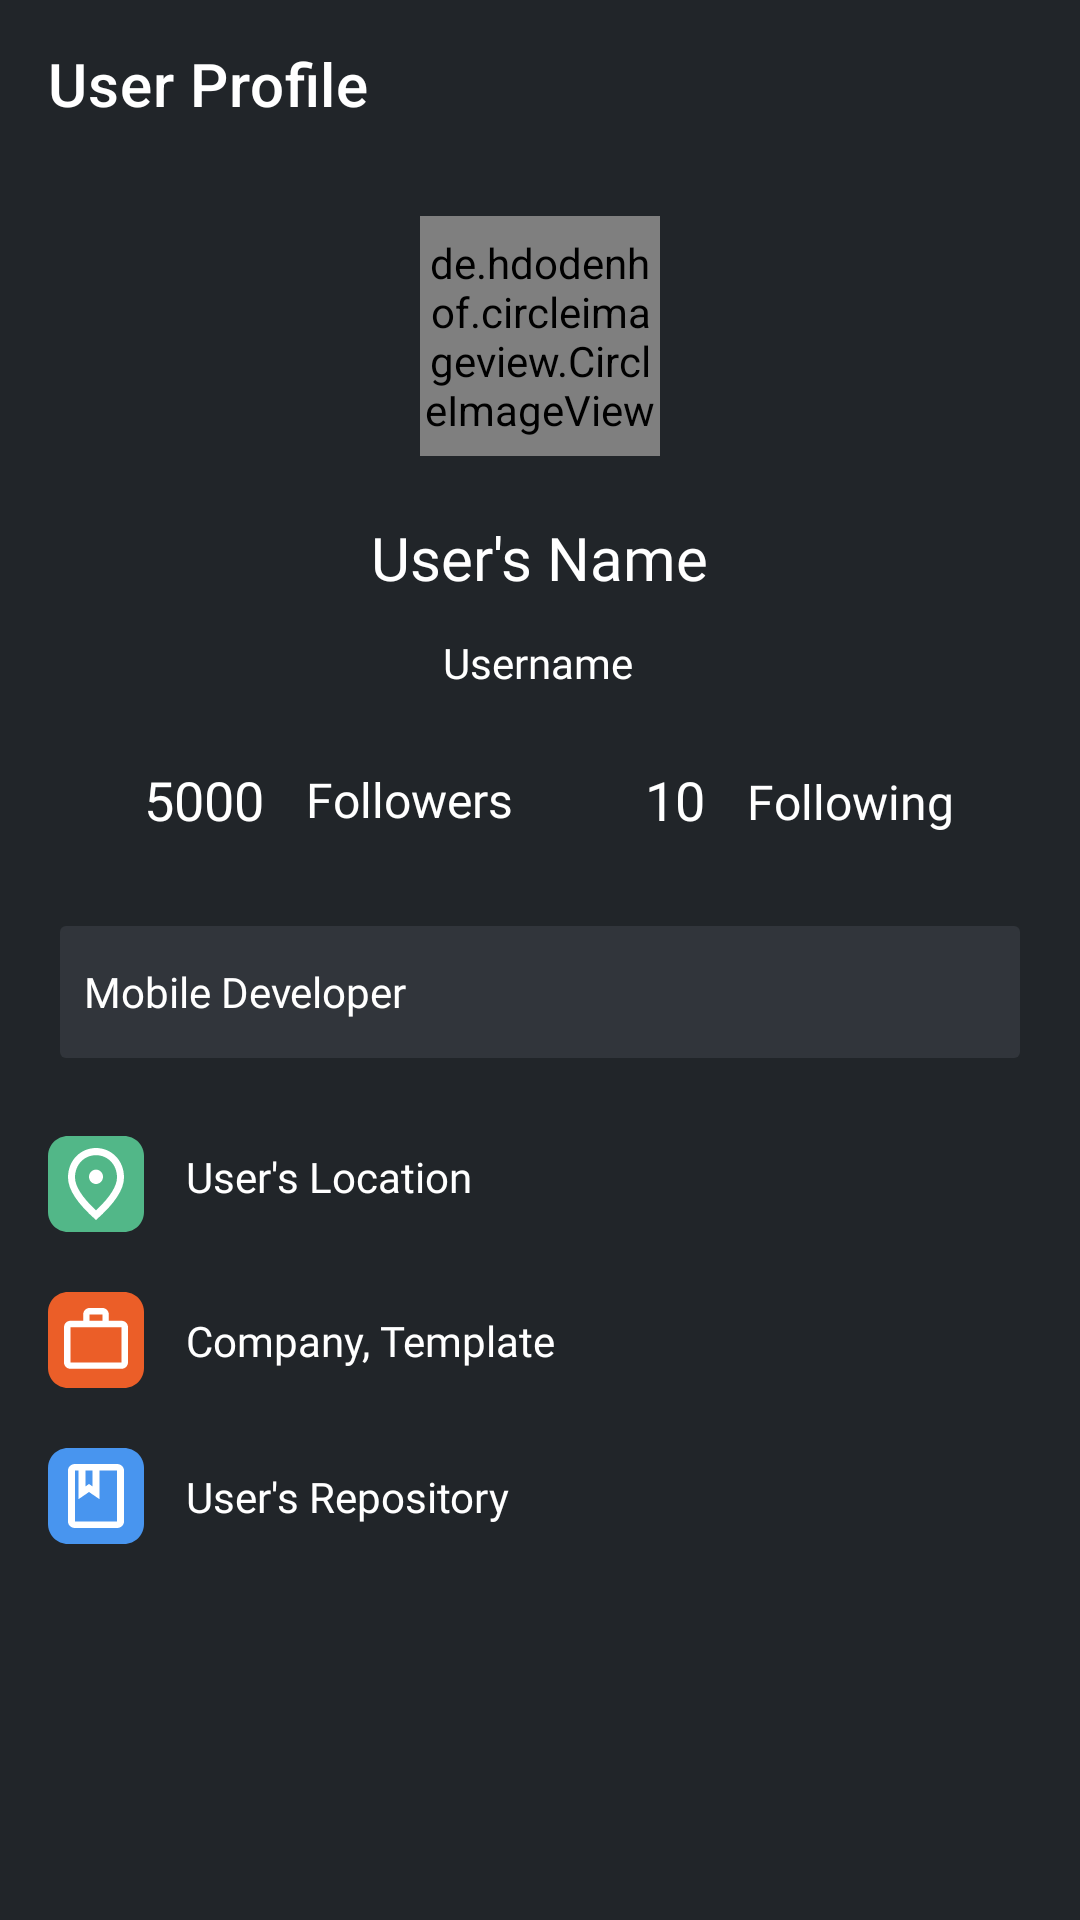

Icons on this 1080 × 1920 Android screen, each with the point to tap as [x,y]:
place: [96,1184]
work: [96,1340]
